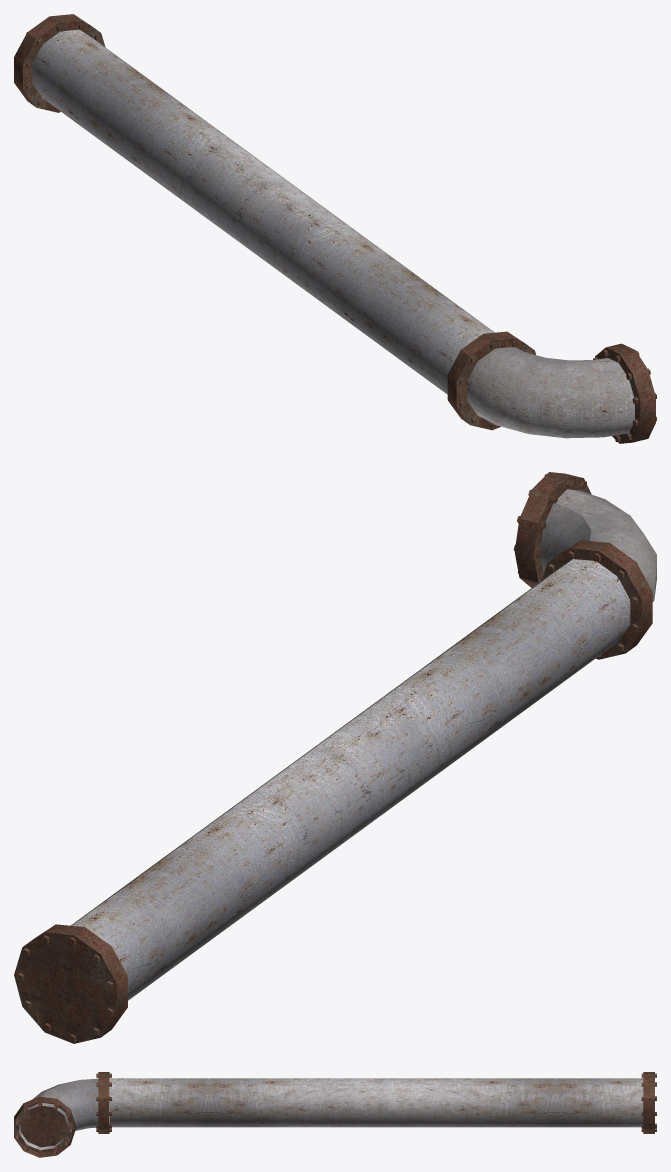
The model's file is steigrohr_3.obj.
The picture shows the model from 3 angles, top to bottom: view 1: azimuth 30°, elevation 25°; view 2: azimuth 150°, elevation 25°; view 3: azimuth 270°, elevation 25°; orthographic projection. The views are drawn at different scales.
Visible parts, largest first — view 1: MDL_Cylin1; view 2: MDL_Cylin1; view 3: MDL_Cylin1.
Part boxes in pixels (x1=…): MDL_Cylin1: x1=14, y1=14, x2=656, y2=443; MDL_Cylin1: x1=14, y1=472, x2=656, y2=1043; MDL_Cylin1: x1=14, y1=1072, x2=656, y2=1157.
Size of the model in its own units: 1.75 by 1.13 by 11.51.
Materials: 2 (2 with a texture image).
